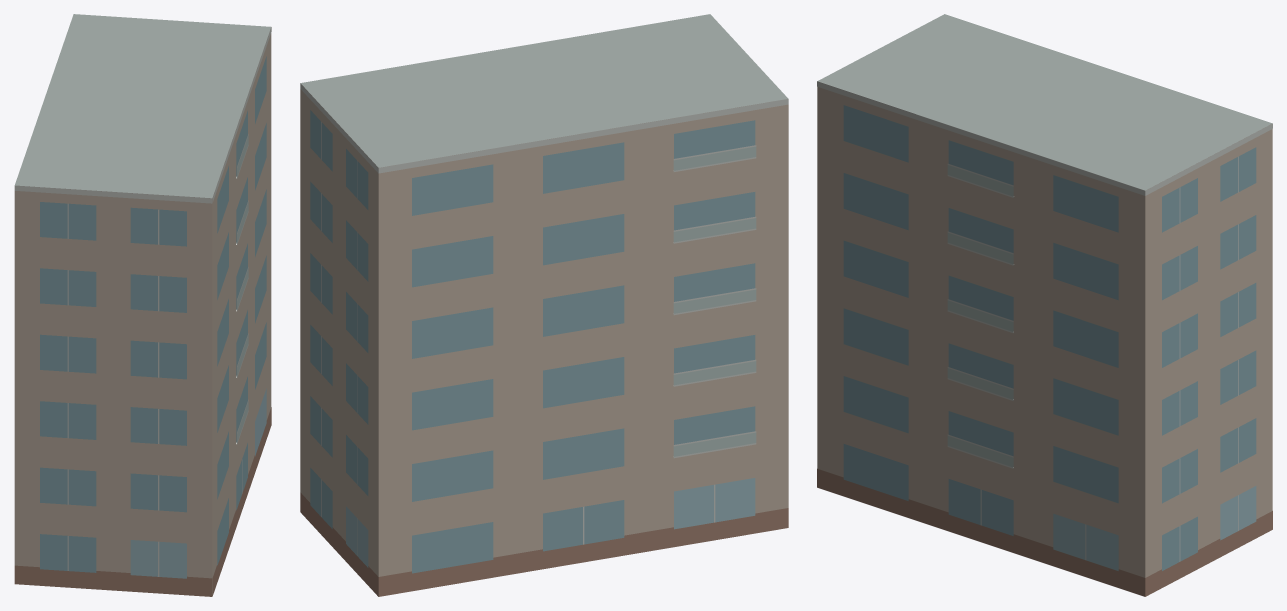
Rendered from survey-upis-32941166.glb.
3 renders of one model, left to right at view 1: azimuth 30°, elevation 25°; view 2: azimuth 150°, elevation 25°; view 3: azimuth 270°, elevation 25°, orthographic. The views are drawn at different scales.
Visible parts, largest first — view 1: survey-upis-32941166.tmp; view 2: survey-upis-32941166.tmp; view 3: survey-upis-32941166.tmp.
Part boxes in pixels (x1,y1,x2,y2): survey-upis-32941166.tmp: [14, 14, 271, 596]; survey-upis-32941166.tmp: [300, 14, 788, 596]; survey-upis-32941166.tmp: [817, 14, 1272, 596].
Bounding box in the file's own units: 17.07 × 18.3 × 18.6.
